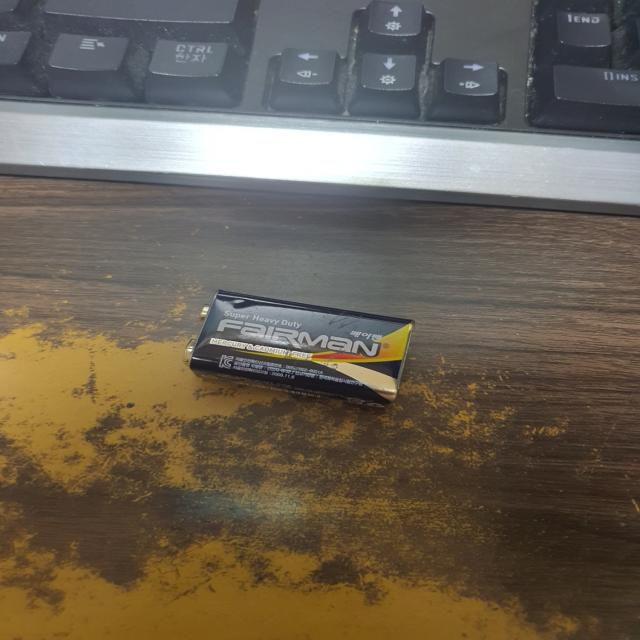battery-etc-etc: (180, 287, 422, 406)
